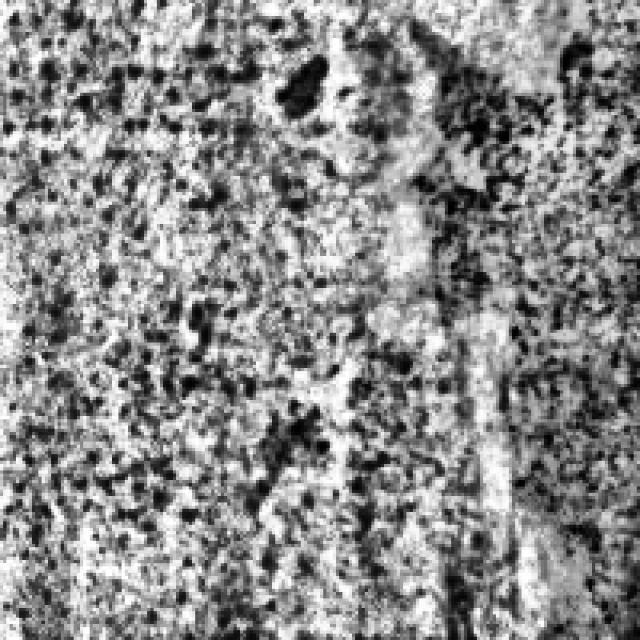Rolled_in_Scale: (0, 0, 403, 637), (406, 0, 637, 637)
